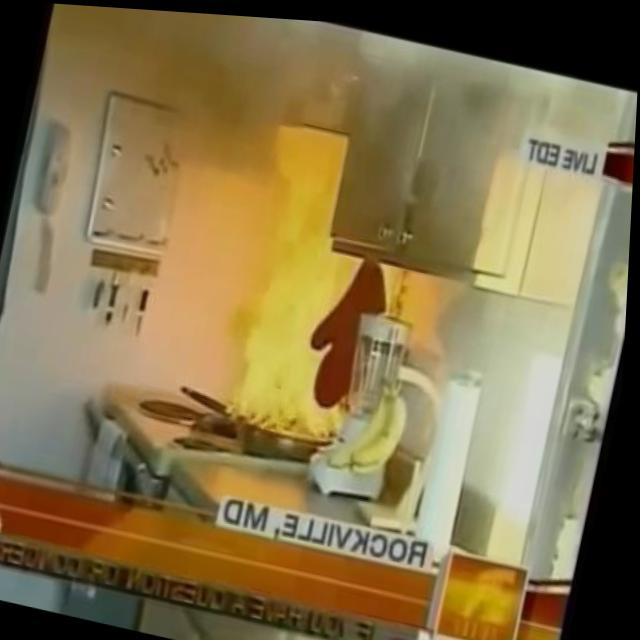fire: (204, 115, 439, 454)
